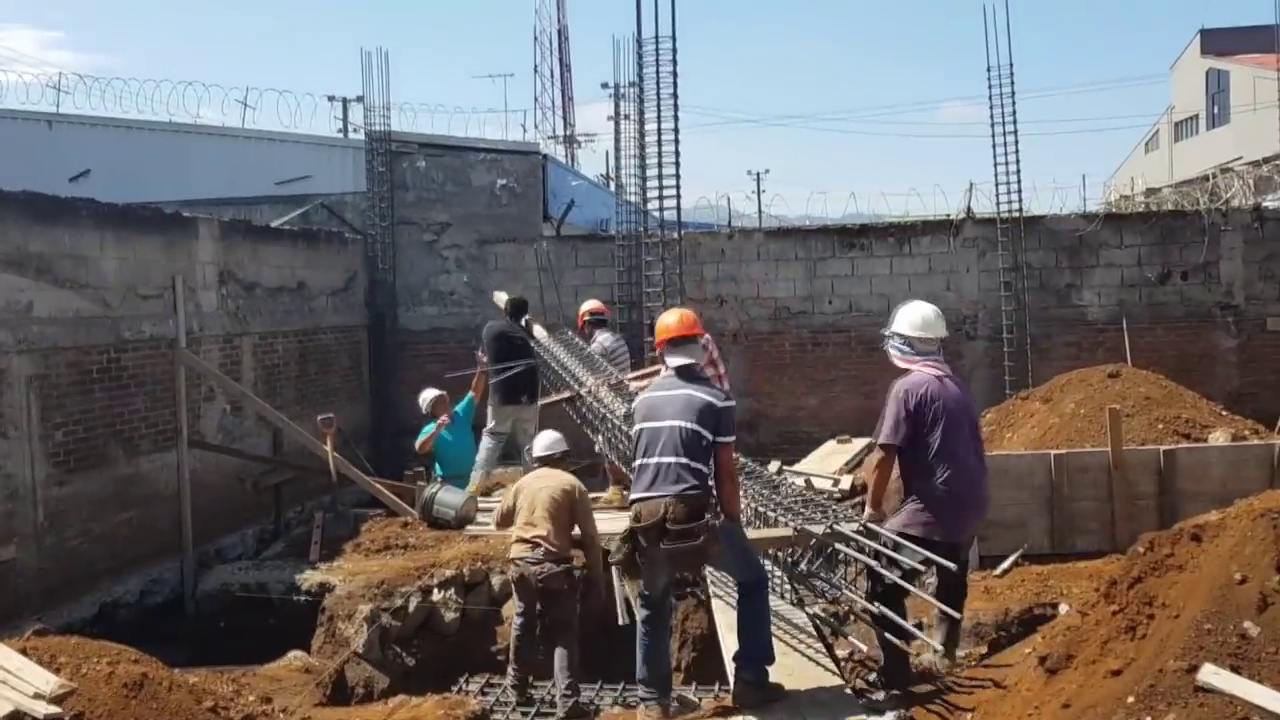helmet: (883, 302, 954, 357), (653, 309, 708, 356), (530, 426, 571, 459), (576, 300, 612, 334), (418, 386, 450, 416)
helmet-off: (497, 295, 530, 334)
helmet-on: (884, 302, 955, 382), (651, 309, 716, 384), (529, 433, 570, 473), (418, 386, 457, 425), (576, 303, 614, 343)
person: (619, 305, 771, 708), (845, 301, 975, 704), (501, 426, 596, 707), (471, 299, 536, 499), (413, 379, 484, 497), (571, 302, 629, 381)
